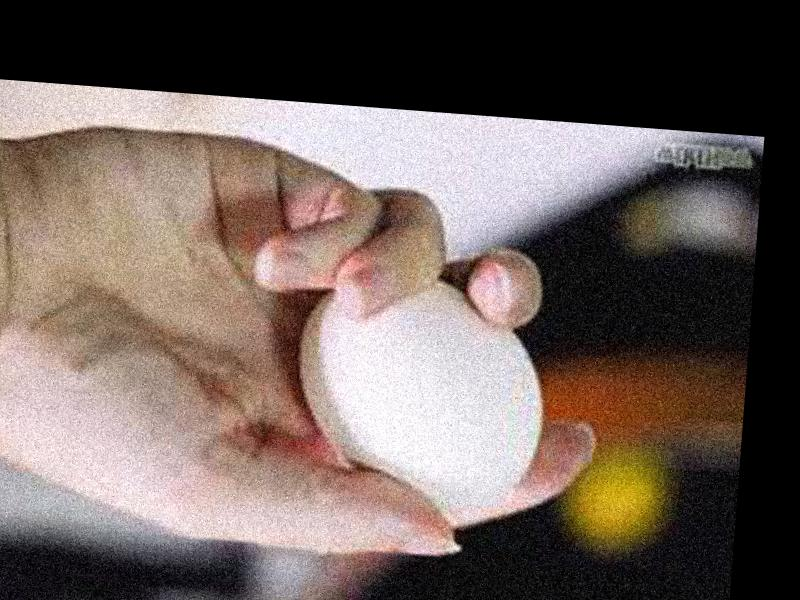Eggs: (291, 273, 554, 517)
